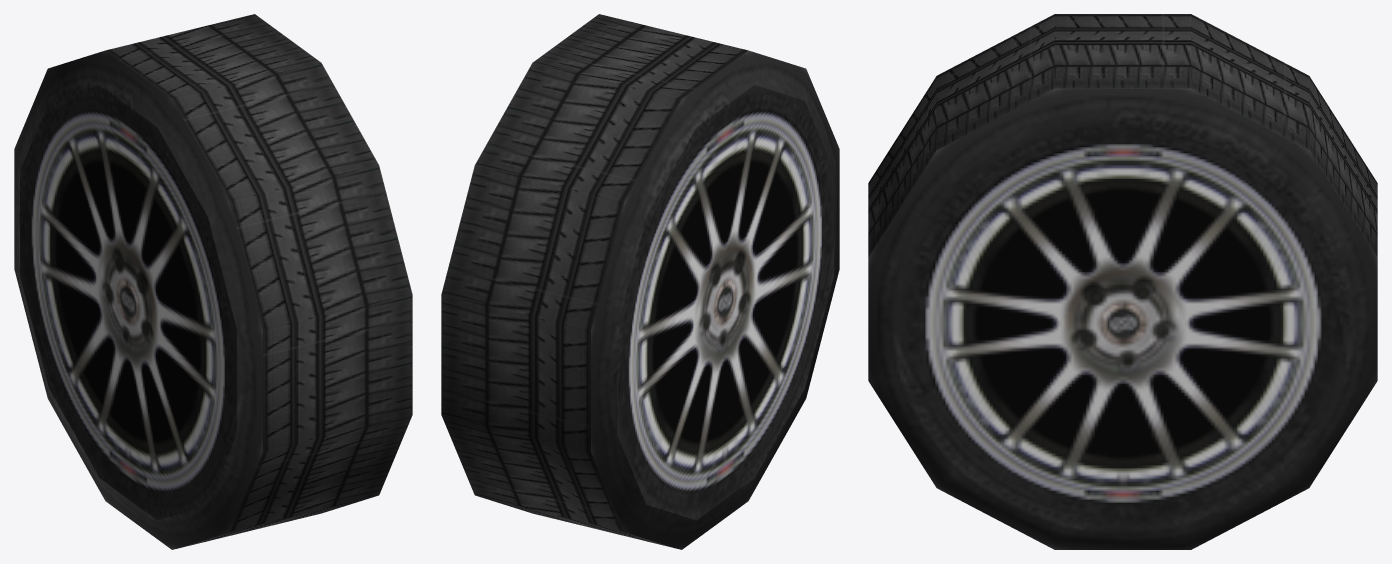
The model's file is WheelStreetMuscle.FBX.
The picture shows the model from 3 angles, left to right: view 1: azimuth 30°, elevation 25°; view 2: azimuth 150°, elevation 25°; view 3: azimuth 270°, elevation 25°; orthographic projection. The views are drawn at different scales.
Visible parts, largest first — view 1: wheelStreetMuscle001; view 2: wheelStreetMuscle001; view 3: wheelStreetMuscle001.
Part boxes in pixels (left/top/right/bottom): wheelStreetMuscle001: left=14, top=14, right=412, bottom=549; wheelStreetMuscle001: left=441, top=14, right=839, bottom=549; wheelStreetMuscle001: left=868, top=14, right=1377, bottom=549.
Bounding box in the file's own units: 31.07 × 78.7 × 78.7.
